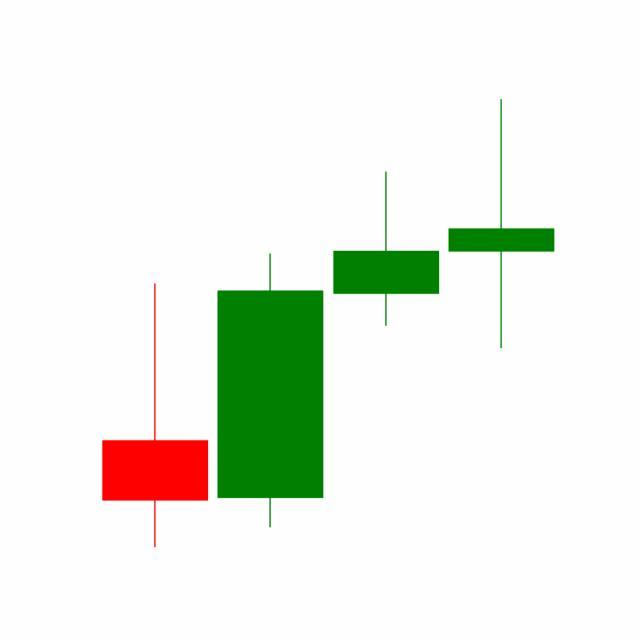Advance Block: (211, 100, 555, 534)
